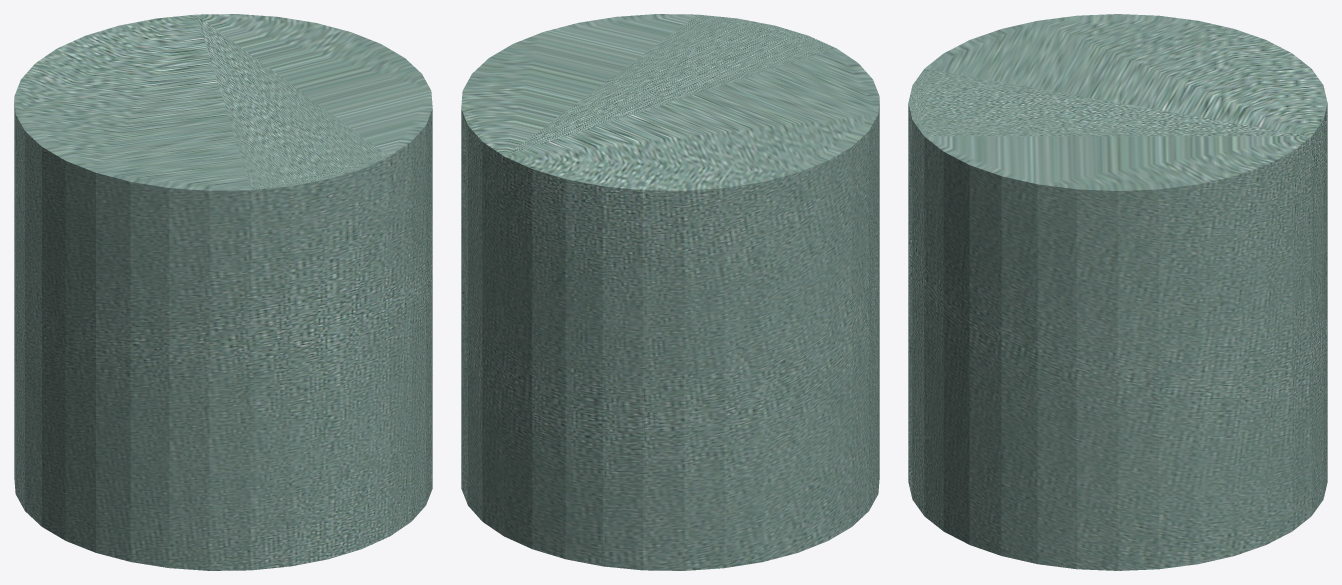
Rendered from bumper.obj.
The picture shows the model from 3 angles, left to right: view 1: azimuth 30°, elevation 25°; view 2: azimuth 150°, elevation 25°; view 3: azimuth 270°, elevation 25°; orthographic projection.
Parts seen in each view (by area): view 1: bumper_Cylinder; view 2: bumper_Cylinder; view 3: bumper_Cylinder.
Part boxes in pixels (x1=…): bumper_Cylinder: x1=14, y1=14, x2=432, y2=570; bumper_Cylinder: x1=461, y1=14, x2=879, y2=570; bumper_Cylinder: x1=908, y1=14, x2=1327, y2=570.
Size of the model in its own units: 2 by 2 by 2.
Materials: 1 (1 with a texture image).
